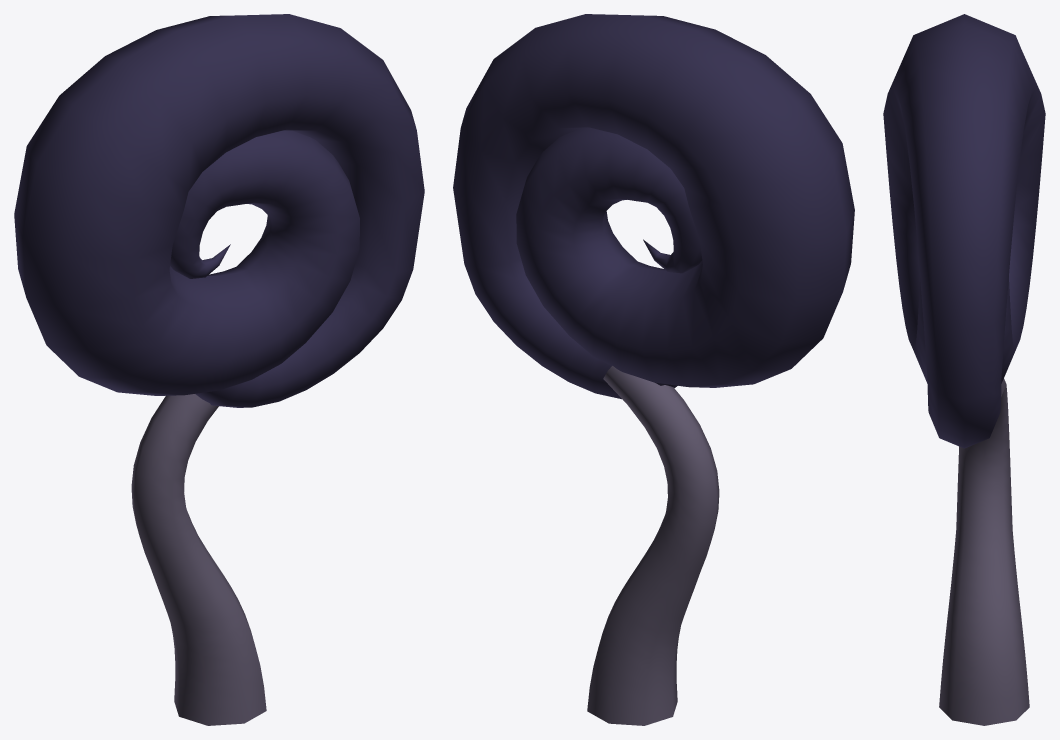
The model's file is quaternius-ultimate-space-tree-swirl-2-transformed.glb.
3 renders of one model, left to right at view 1: azimuth 30°, elevation 25°; view 2: azimuth 150°, elevation 25°; view 3: azimuth 270°, elevation 25°, orthographic. The views are drawn at different scales.
Parts seen in each view (by area): view 1: Tree_Swirl_2; view 2: Tree_Swirl_2; view 3: Tree_Swirl_2.
Part boxes in pixels (left/top/right/bottom): Tree_Swirl_2: left=14, top=14, right=424, bottom=725; Tree_Swirl_2: left=453, top=14, right=854, bottom=725; Tree_Swirl_2: left=883, top=14, right=1045, bottom=725.
Size of the model in its own units: 3.07 by 5.15 by 1.15.
Materials: 1 (1 with a texture image).
